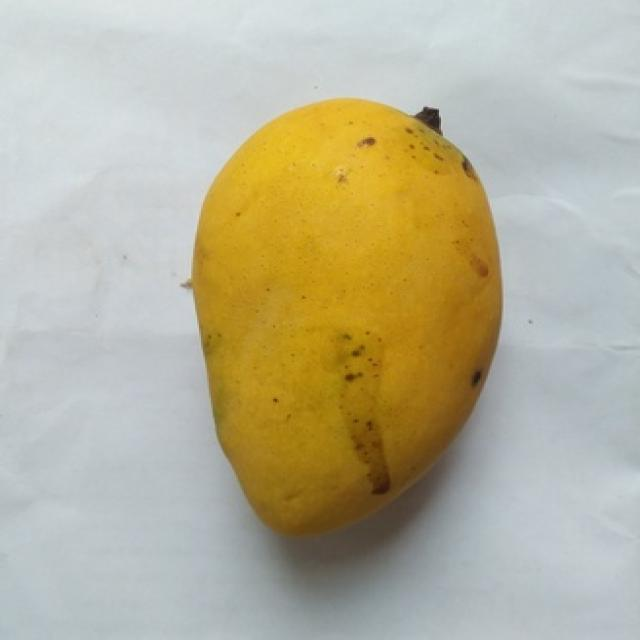Mango: (193, 99, 501, 533)
